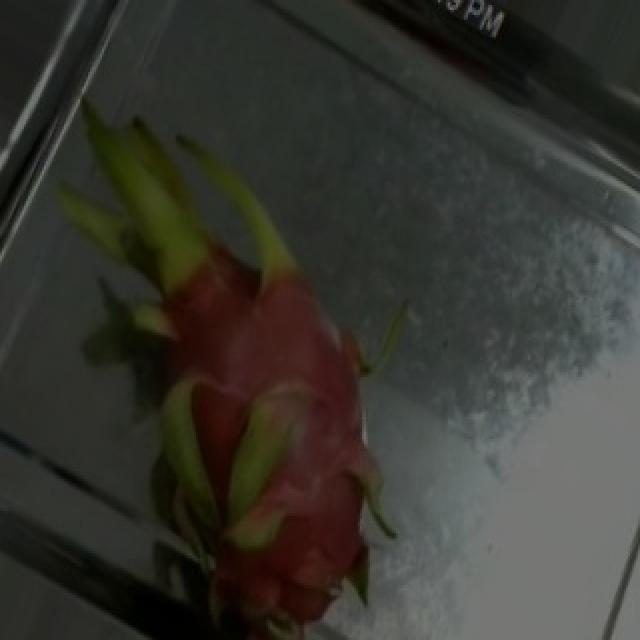fruit: (38, 208, 458, 635)
